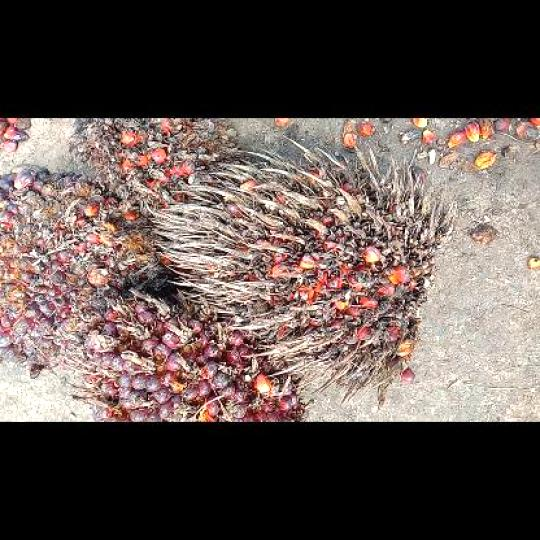masak: (0, 166, 169, 377), (66, 290, 308, 420)
terlalu masak: (150, 134, 455, 406), (70, 118, 236, 212)
